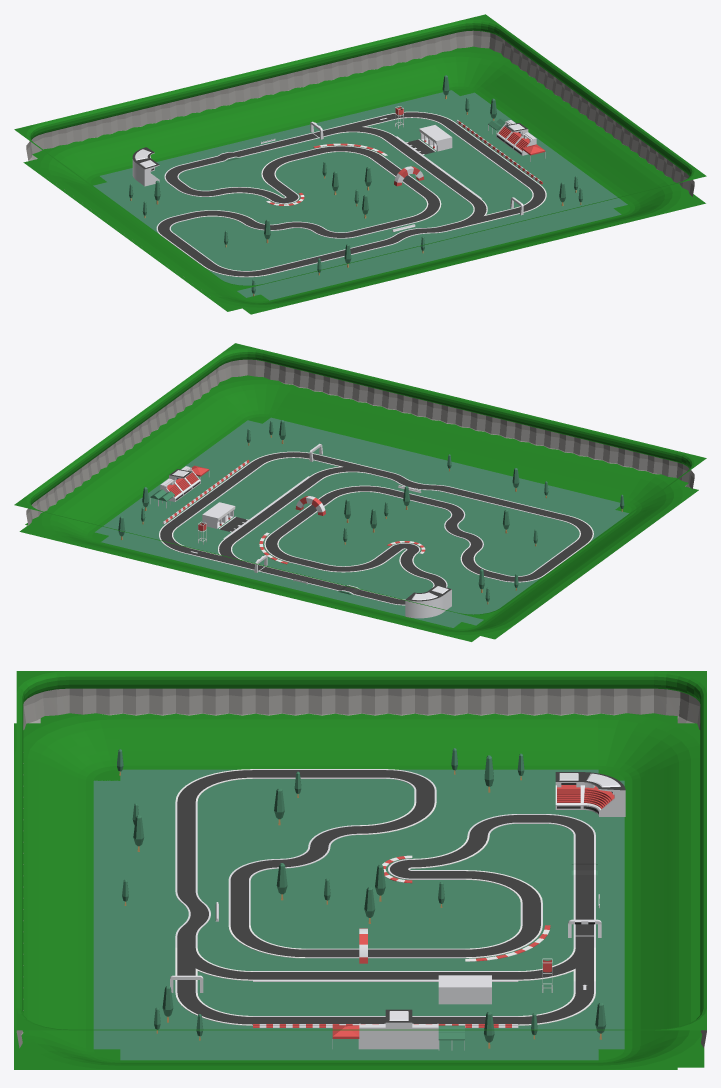
Rendered from track_k3.glb.
The picture shows the model from 3 angles, top to bottom: view 1: azimuth 30°, elevation 25°; view 2: azimuth 150°, elevation 25°; view 3: azimuth 270°, elevation 25°; orthographic projection. The views are drawn at different scales.
Parts seen in each view (by area): view 1: mergedBlocks(Clone); view 2: mergedBlocks(Clone); view 3: mergedBlocks(Clone).
Part boxes in pixels (box(x1,y1,x2,y2)): mergedBlocks(Clone): box(14, 14, 706, 314); mergedBlocks(Clone): box(14, 343, 706, 641); mergedBlocks(Clone): box(14, 671, 706, 1069).
Bounding box in the file's own units: 32 × 2.7 × 26.1.
